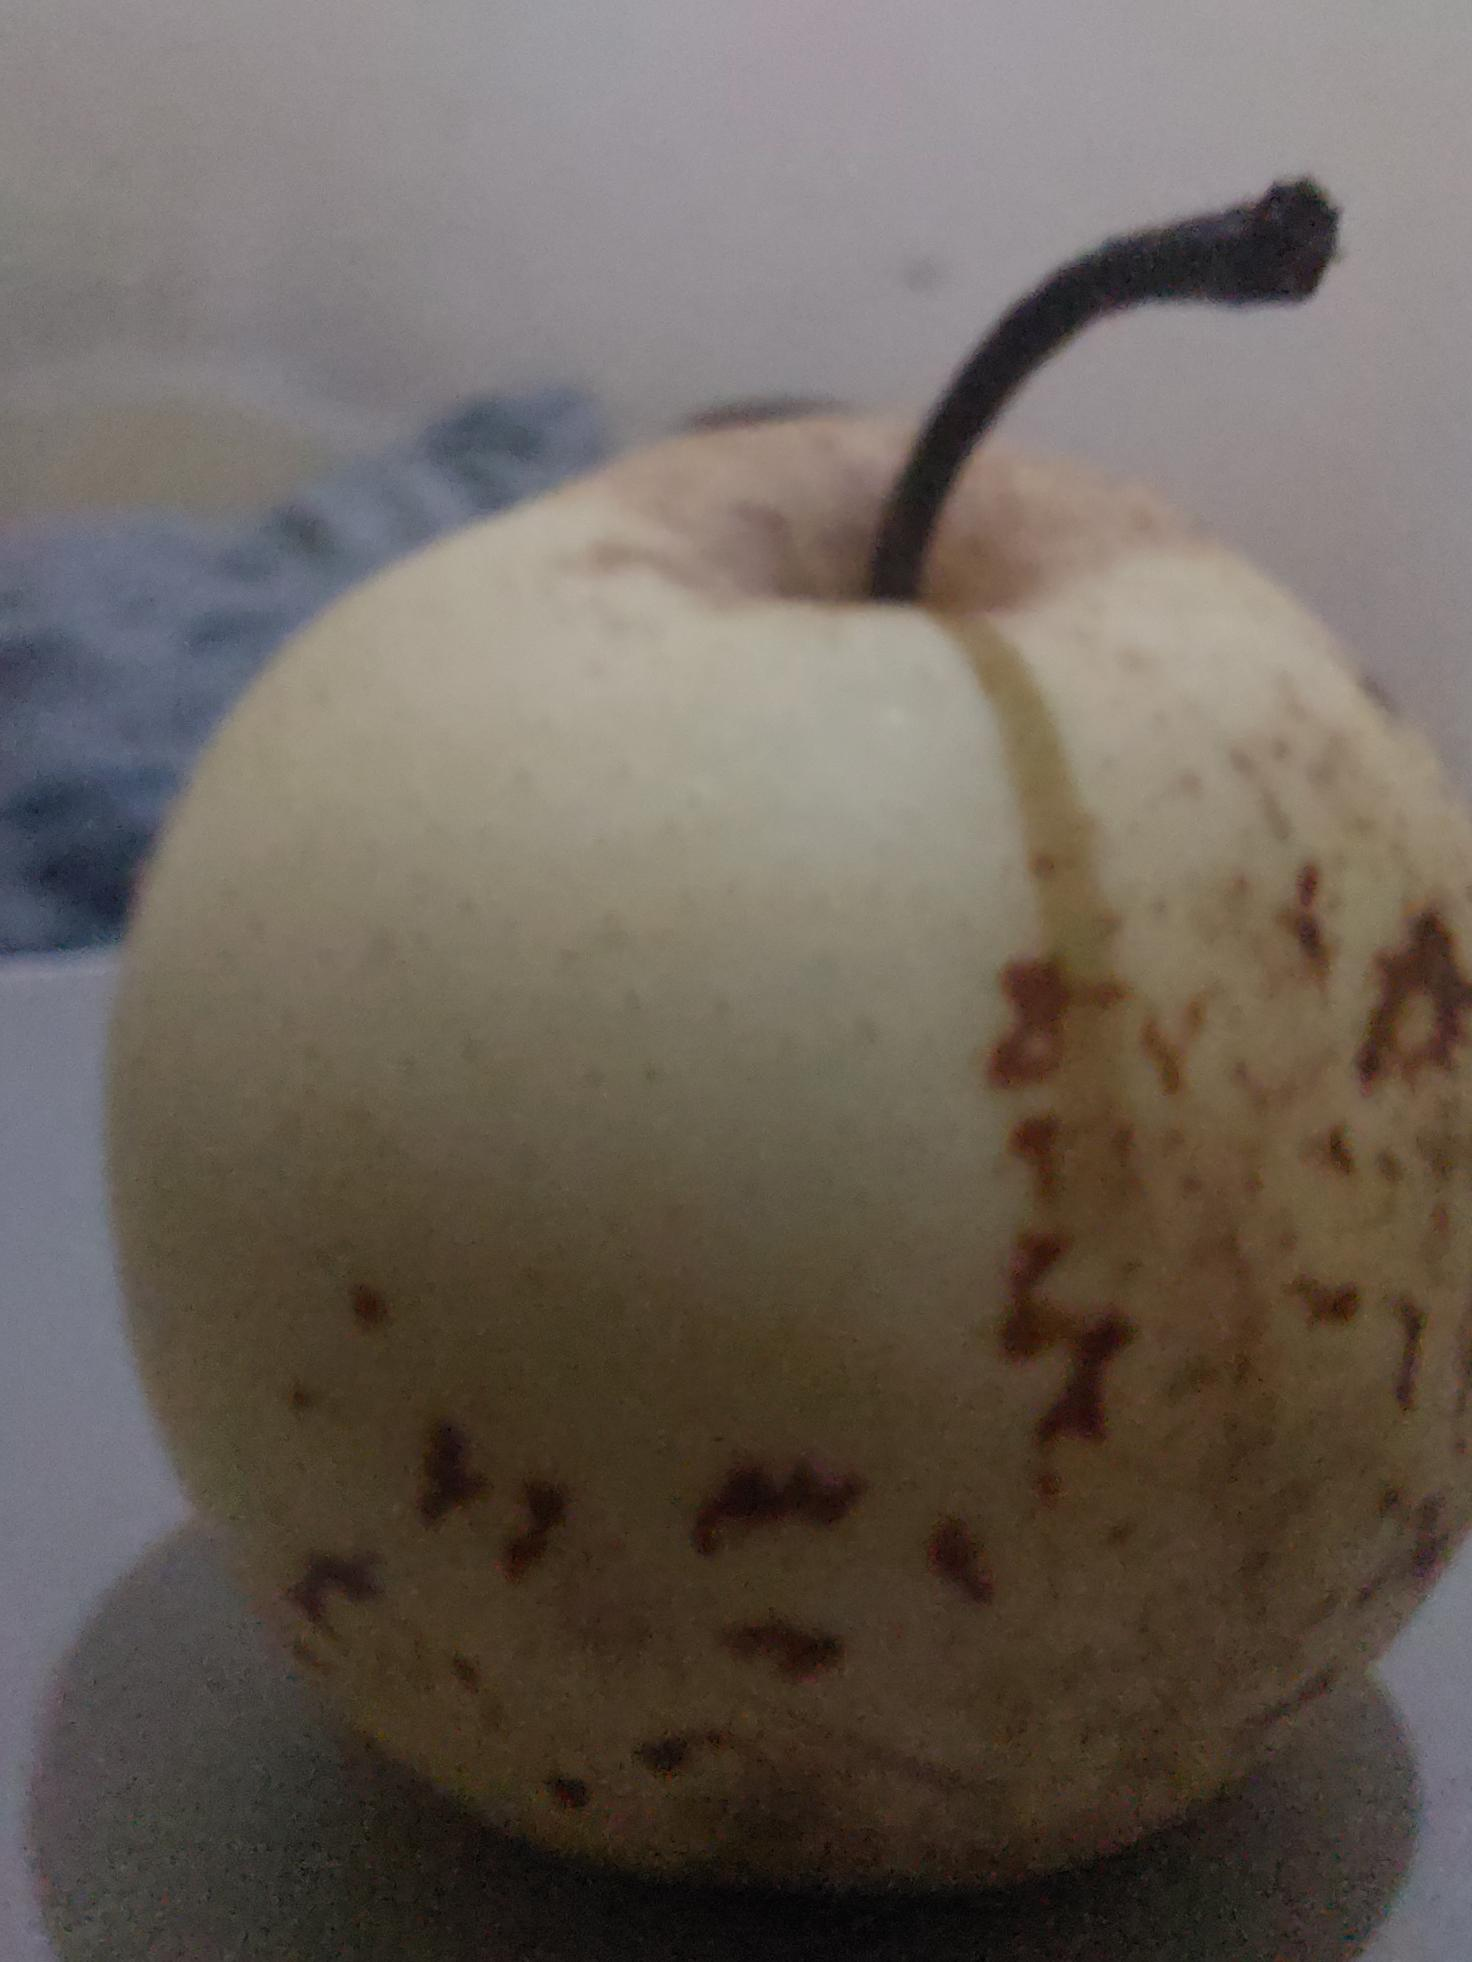Bad Pear: (63, 397, 1472, 1933)
